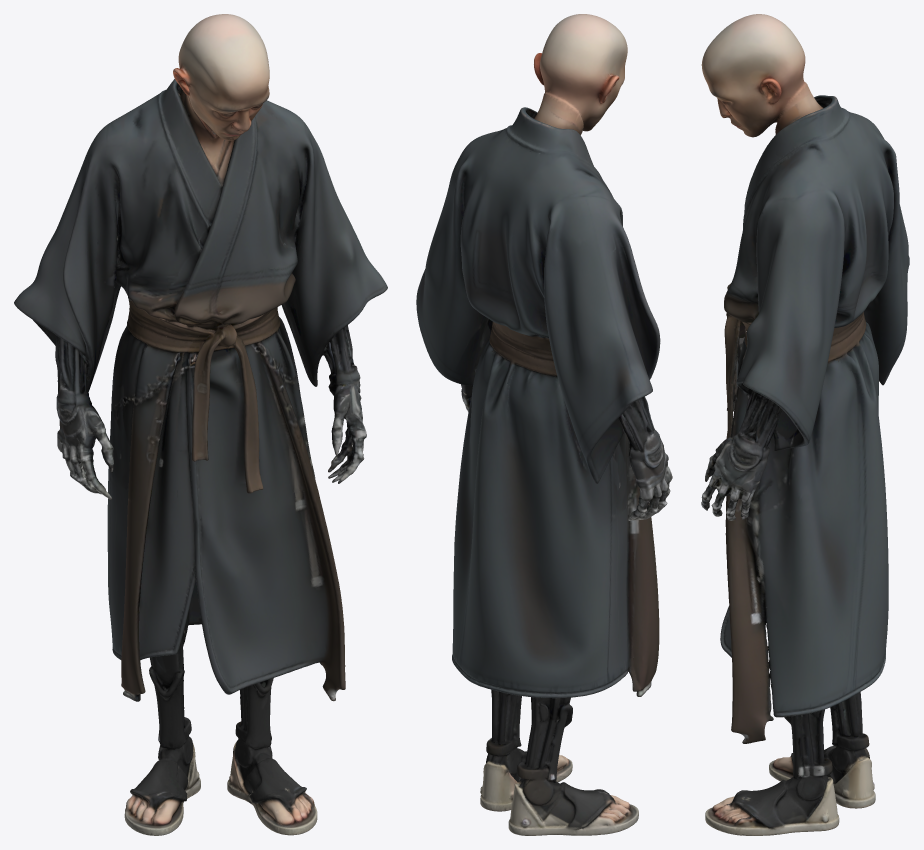
The model's file is japanese_monk_cyborg.glb.
3 renders of one model, left to right at view 1: azimuth 30°, elevation 25°; view 2: azimuth 150°, elevation 25°; view 3: azimuth 270°, elevation 25°, orthographic. The views are drawn at different scales.
Parts seen in each view (by area): view 1: Mesh_0_Material.001_0 (×5); view 2: Mesh_0_Material.001_0 (×5); view 3: Mesh_0_Material.001_0 (×5).
Part boxes in pixels (box(x1,y1,x2,y2)): Mesh_0_Material.001_0 (×5): box(14, 14, 387, 835); Mesh_0_Material.001_0 (×5): box(416, 14, 672, 835); Mesh_0_Material.001_0 (×5): box(701, 14, 909, 835).
Size of the model in its own units: 0.7019 by 1.8 by 0.4367.
1 material, 1 textured.
